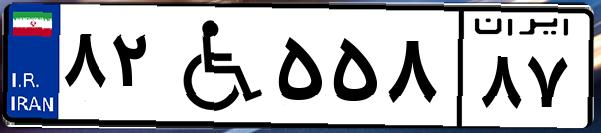2: (110, 28, 158, 98)
5: (270, 28, 330, 110), (330, 28, 385, 110)
7: (525, 38, 570, 115)
8: (385, 28, 445, 110), (57, 26, 110, 100), (475, 38, 525, 113)
ژ (معلولین و جانبازان): (158, 12, 270, 120)
